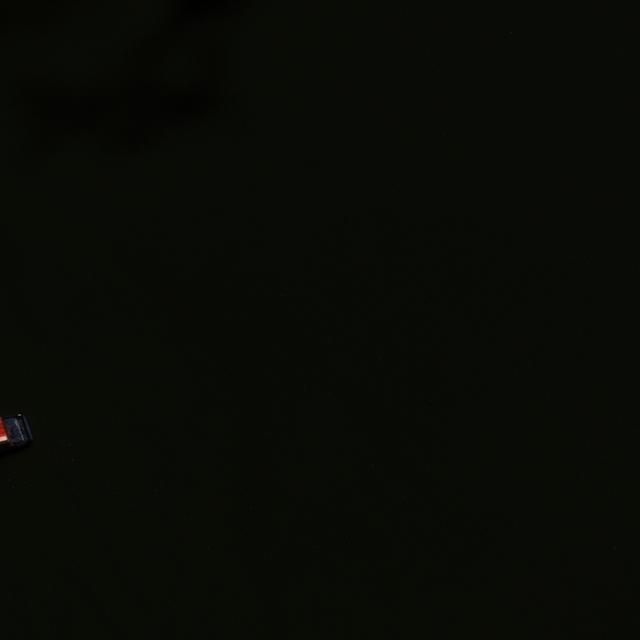Container Ship: (1, 414, 32, 454)
